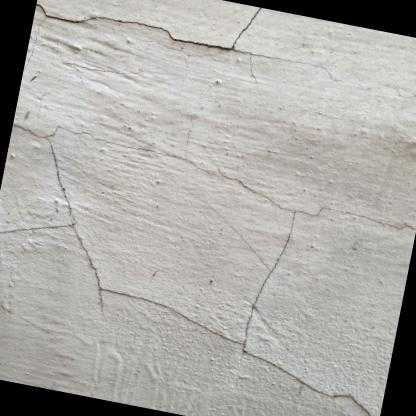crack: (115, 287, 380, 416), (0, 119, 109, 296), (35, 0, 268, 50)
